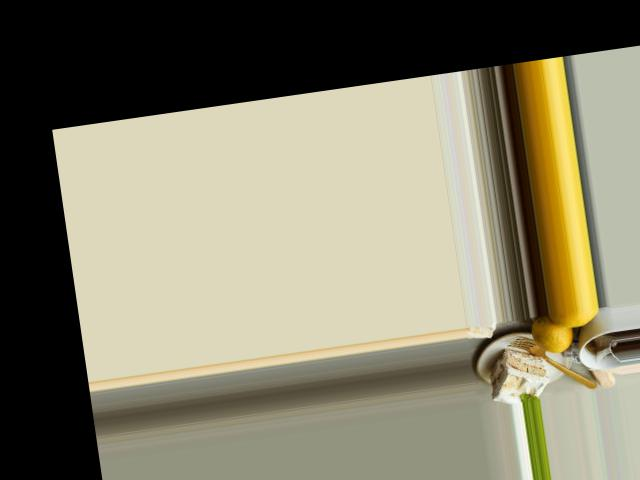lemon: (547, 306, 602, 332)
